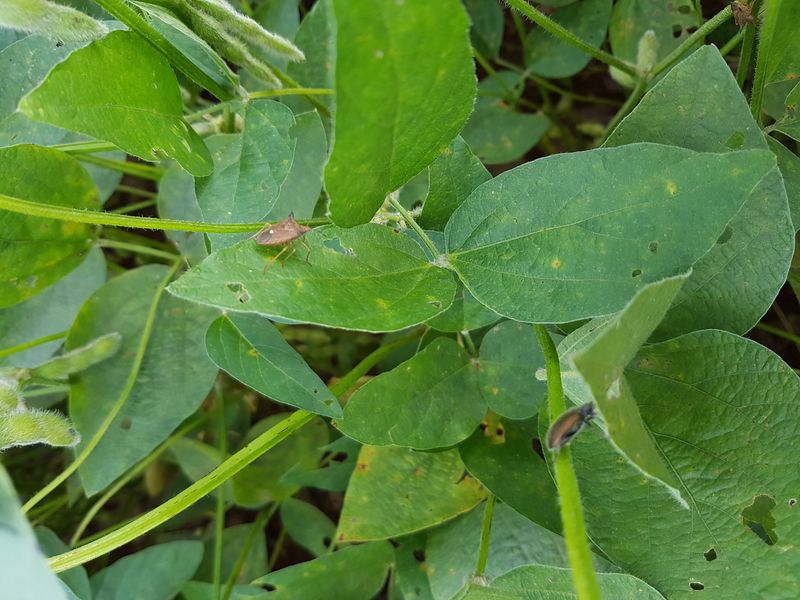Euschistus_heros_adulto: (235, 199, 328, 272), (724, 1, 767, 37)
Lagria_villosa: (535, 389, 611, 463)
